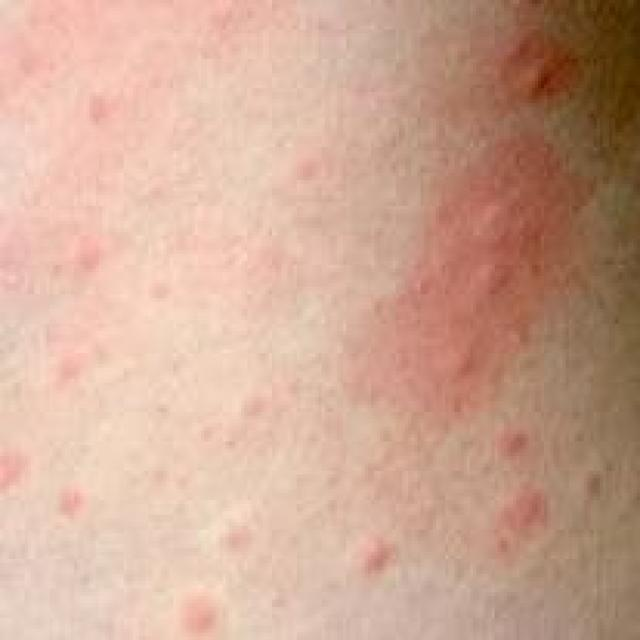acne: (491, 39, 640, 125), (472, 186, 544, 362), (480, 416, 548, 534), (346, 526, 399, 640)
